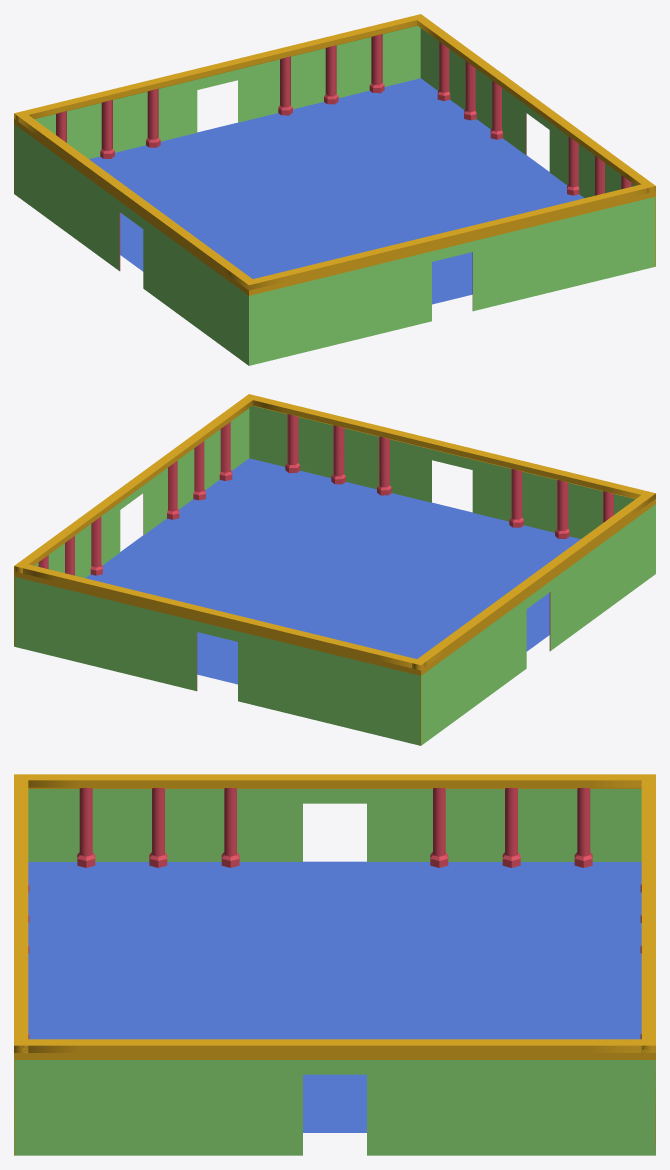
File: SquareRoom (updated).fbx
3 views of the same model, one above another, from view 1: azimuth 30°, elevation 25°; view 2: azimuth 150°, elevation 25°; view 3: azimuth 270°, elevation 25° (orthographic). The views are drawn at different scales.
Parts seen in each view (by area): view 1: SpawnFloor, WallSouth, WallNorth, WallWest, WallEast; view 2: SpawnFloor, WallNorth, WallSouth, WallWest, WallEast; view 3: SpawnFloor, WallEast, WallWest, WallSouth, WallNorth.
Part boxes in pixels (box(x1,y1,x2,y2)): SpawnFloor: box(89, 78, 584, 304); WallSouth: box(245, 184, 655, 365); WallNorth: box(14, 14, 424, 193); WallWest: box(14, 111, 257, 365); WallEast: box(413, 14, 655, 266); SpawnFloor: box(85, 458, 580, 684); WallNorth: box(14, 562, 426, 745); WallSouth: box(245, 396, 655, 538); WallWest: box(412, 491, 655, 745); WallEast: box(14, 394, 257, 646); SpawnFloor: box(28, 861, 641, 1132); WallEast: box(14, 1039, 655, 1155); WallWest: box(14, 774, 655, 867); WallSouth: box(14, 774, 29, 1155); WallNorth: box(640, 775, 655, 1155).
Bounding box in the file's own units: 4000 × 757 × 4000.
